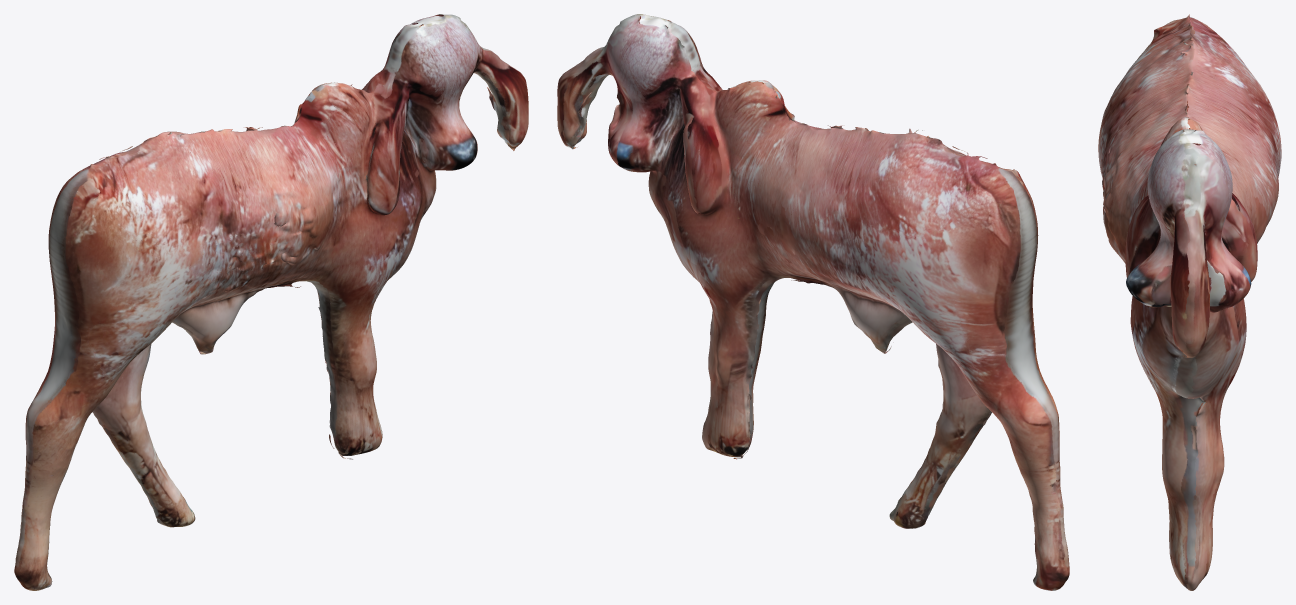
Rendered from bebe.glb.
3 views of the same model, side by side, from view 1: azimuth 30°, elevation 25°; view 2: azimuth 150°, elevation 25°; view 3: azimuth 270°, elevation 25° (orthographic). The views are drawn at different scales.
Parts seen in each view (by area): view 1: mesh; view 2: mesh; view 3: mesh.
Part boxes in pixels (x1=…): mesh: x1=14, y1=14, x2=528, y2=590; mesh: x1=557, y1=14, x2=1069, y2=590; mesh: x1=1098, y1=14, x2=1281, y2=590.
Size of the model in its own units: 1.54 by 1.36 by 0.4087.
Materials: 1 (1 with a texture image).
